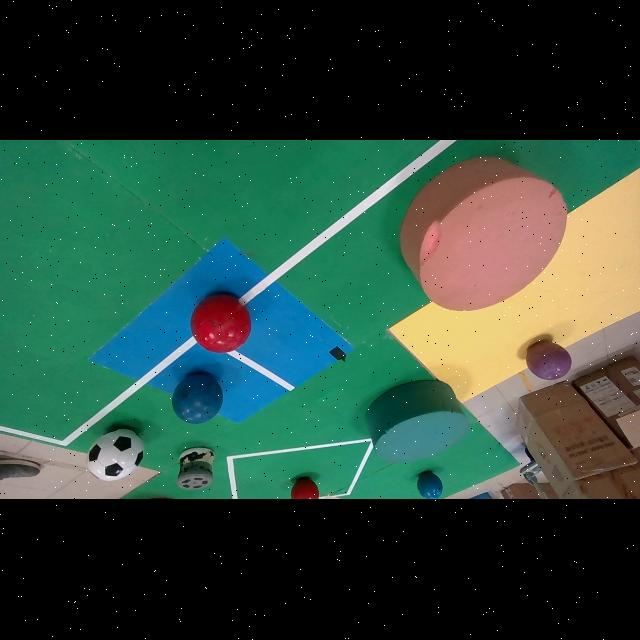B: (173, 374, 221, 424), (417, 472, 443, 500)
P: (526, 341, 571, 381)
R: (190, 294, 251, 354), (291, 478, 318, 500)
